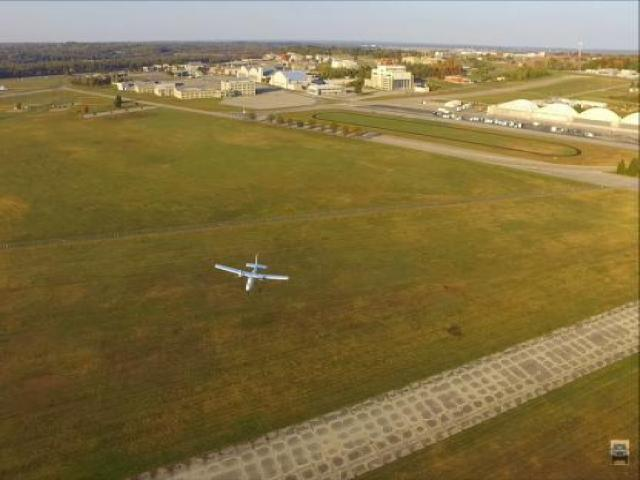uav: (214, 251, 292, 292)
